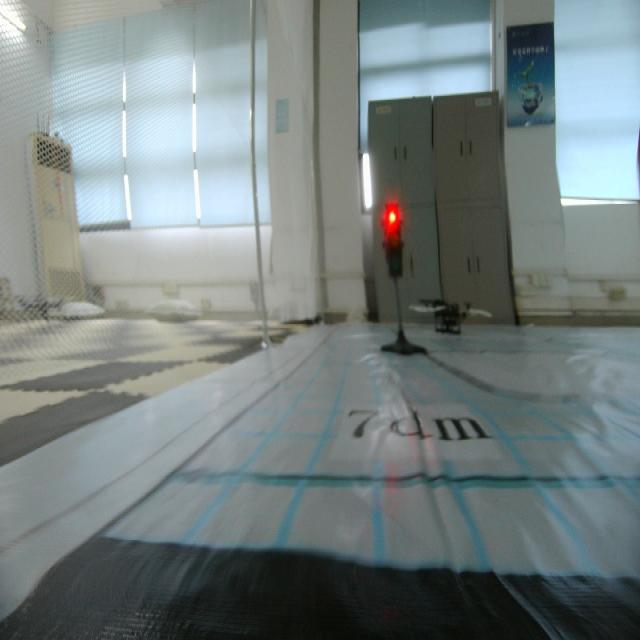red: (373, 201, 409, 289)
